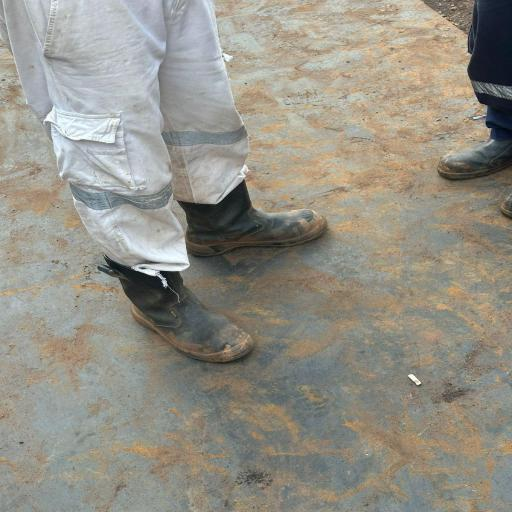safety_shoe: (85, 259, 267, 363), (178, 182, 325, 256), (440, 126, 512, 180)
